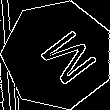M_SW: (23, 21, 93, 88)
